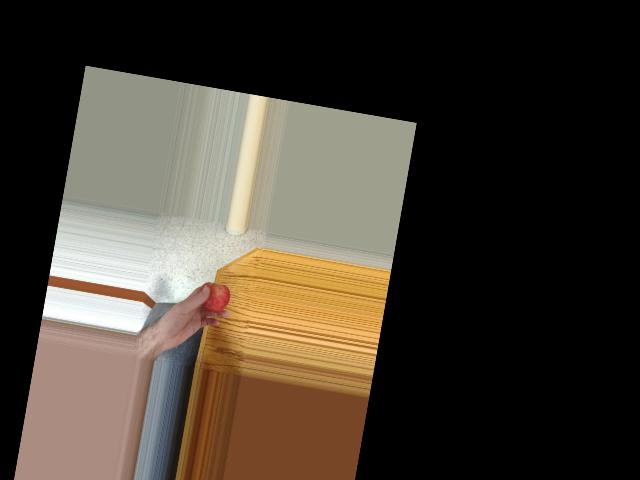apple: (196, 278, 231, 314)
